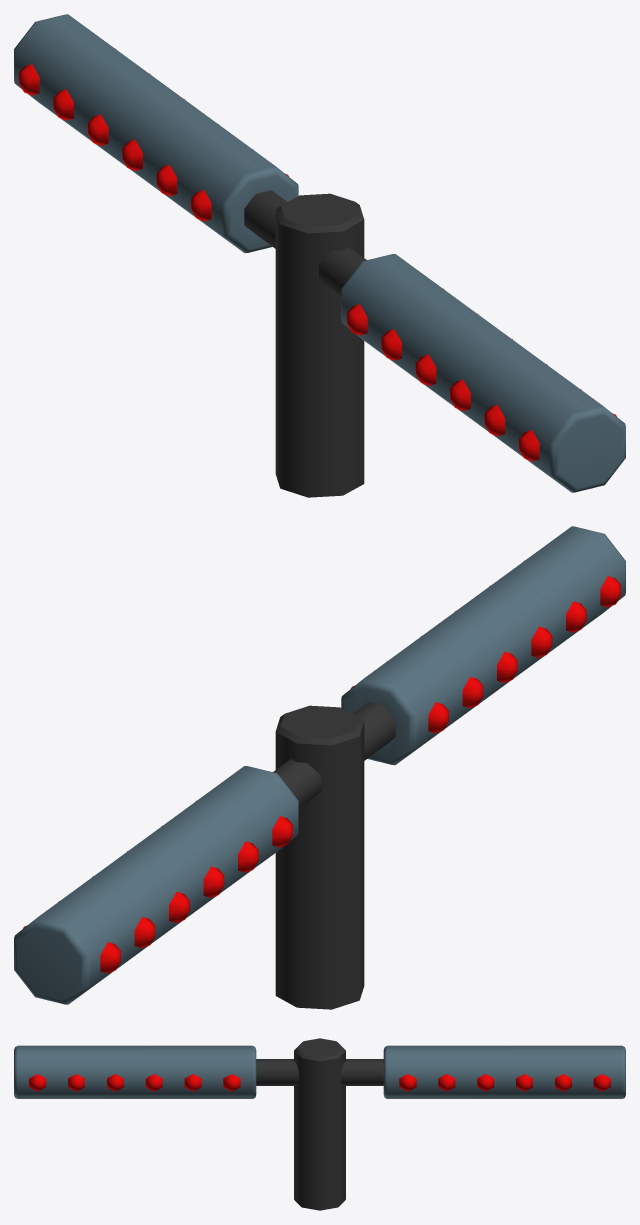
Rendered from trap_trapxoay.fbx.
3 renders of one model, top to bottom at view 1: azimuth 30°, elevation 25°; view 2: azimuth 150°, elevation 25°; view 3: azimuth 270°, elevation 25°, orthographic. The views are drawn at different scales.
Parts seen in each view (by area): view 1: xoay1, xoay2, xoay; view 2: xoay2, xoay1, xoay; view 3: xoay1, xoay2, xoay.
Part boxes in pixels (x1,y1,x2,y2): xoay1: (319,247,625,492); xoay2: (14,14,298,253); xoay: (275,193,364,497); xoay2: (14,759,320,1004); xoay1: (341,526,625,765); xoay: (275,705,364,1009); xoay1: (14,1045,299,1098); xoay2: (340,1045,625,1098); xoay: (294,1038,345,1210).
Size of the model in its own units: 50.06 by 128 by 466.
